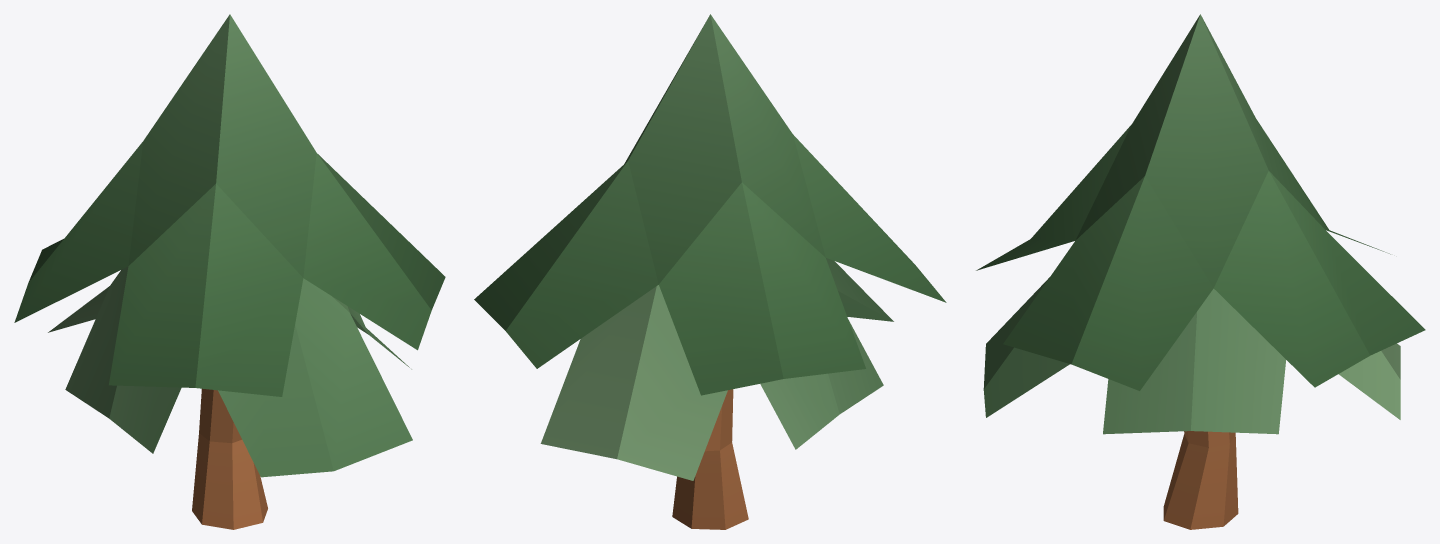
File: pine 2.fbx
3 views of the same model, side by side, from view 1: azimuth 30°, elevation 25°; view 2: azimuth 150°, elevation 25°; view 3: azimuth 270°, elevation 25° (orthographic).
Parts seen in each view (by area): view 1: pine 2; view 2: pine 2; view 3: pine 2.
Boxes of the visible parts, x1,y1,x2,y2 form: pine 2: (14,14,445,529); pine 2: (474,14,946,529); pine 2: (976,14,1425,529).
Bounding box in the file's own units: 244 × 313 × 256.
